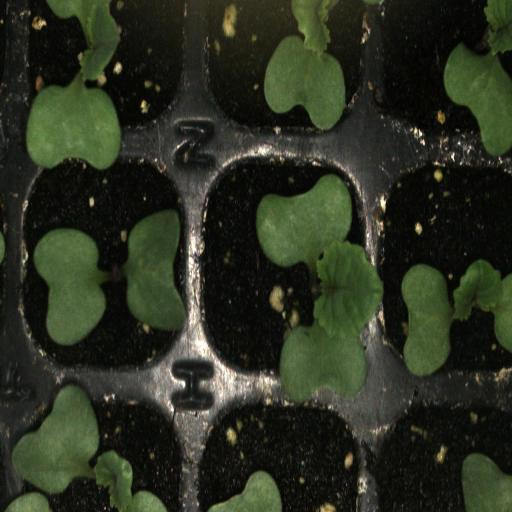seedling: (196, 139, 374, 394), (10, 136, 198, 376), (375, 140, 512, 394), (7, 0, 196, 138), (194, 0, 368, 130)
